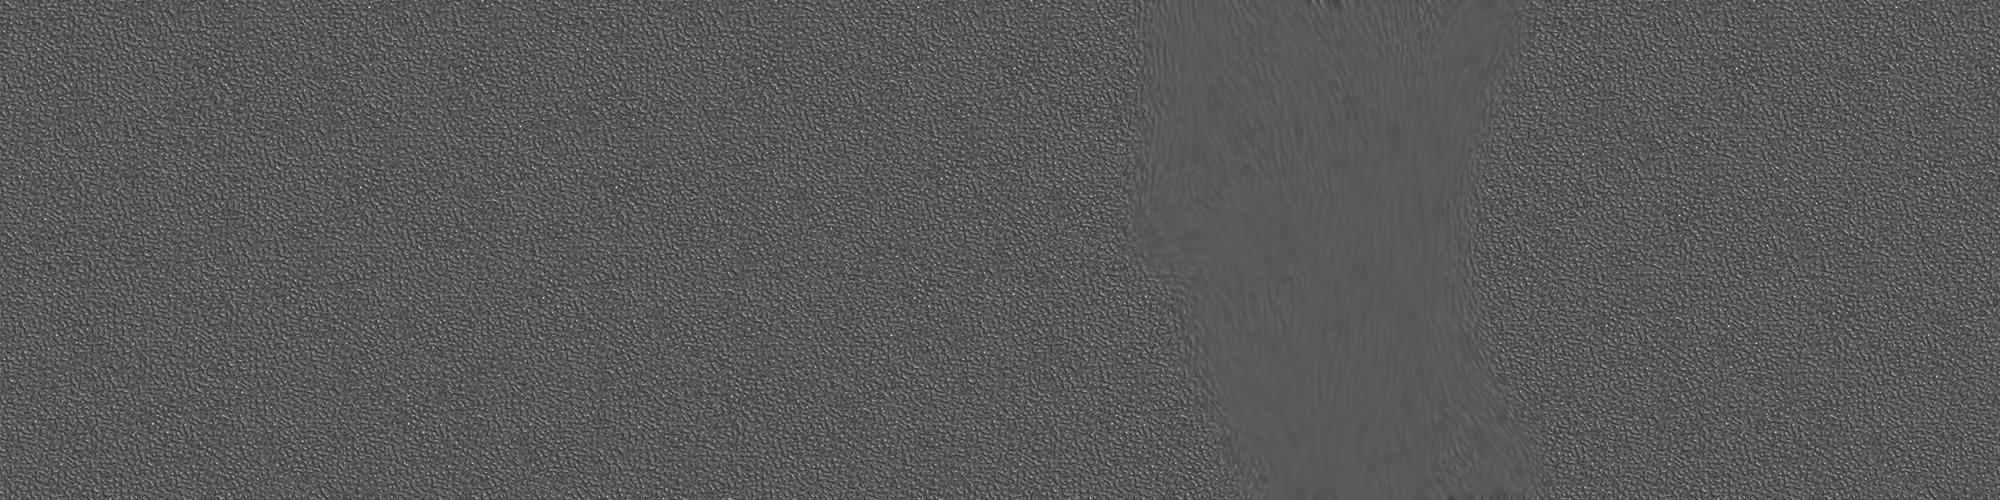Flow_Lines: (1075, 13, 1578, 500)
